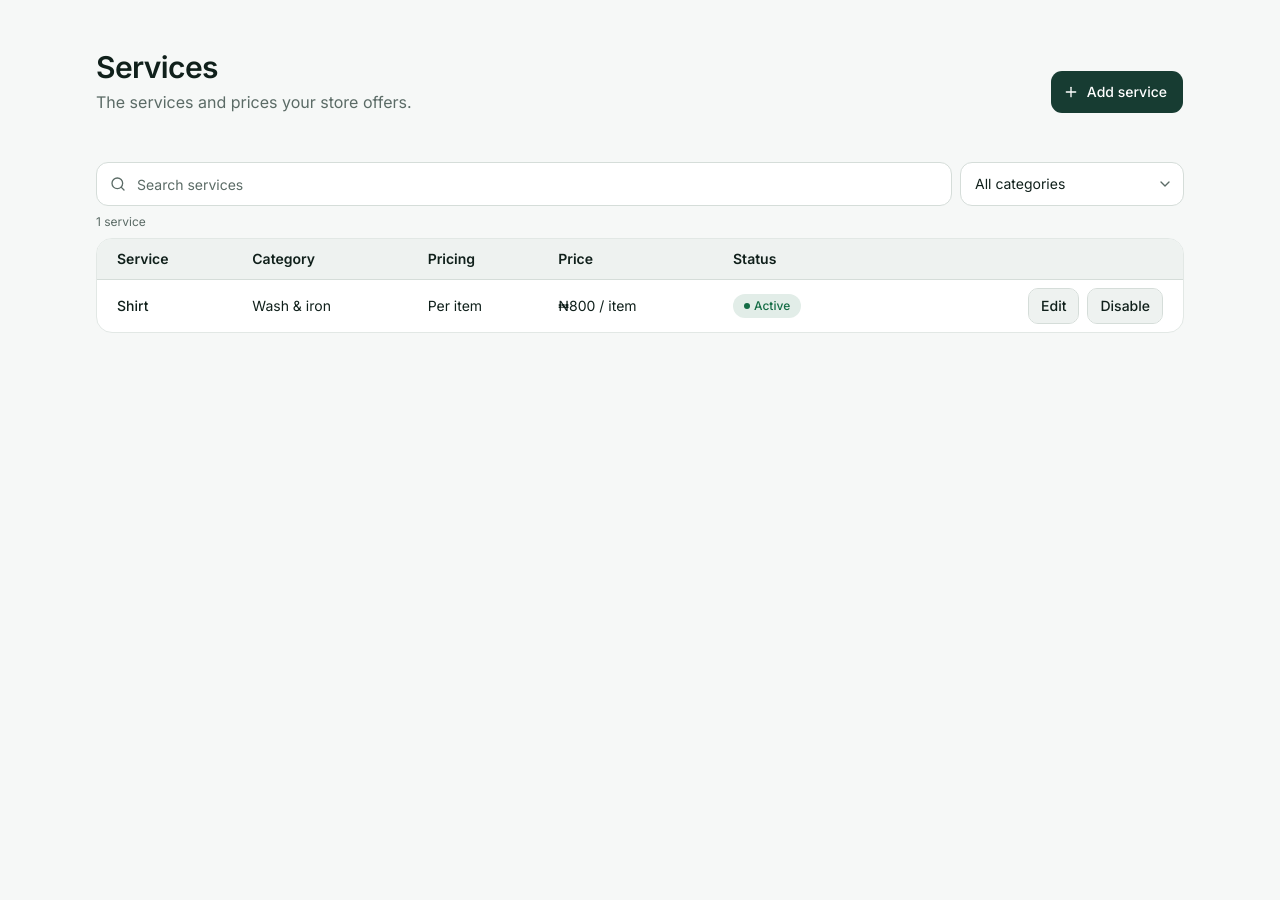
Scenario: ServiceCatalogue › shows a saved edit at once, before the page's data refreshes
Click the button with aria-label "Edit Shirt".
click(1054, 306)  # box [1028,288,1080,324]
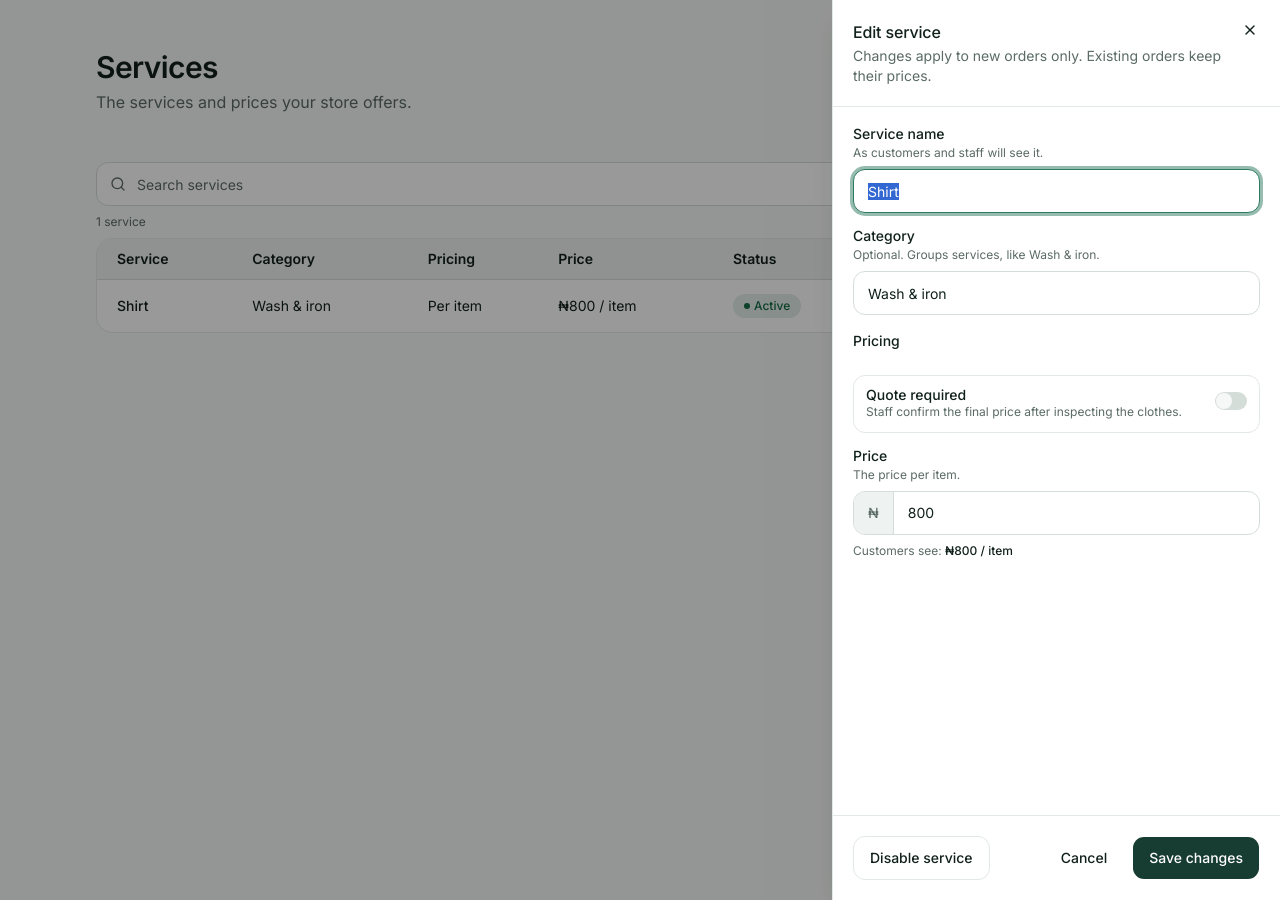
Submit the form named "Service name", box [833,0,1279,899]
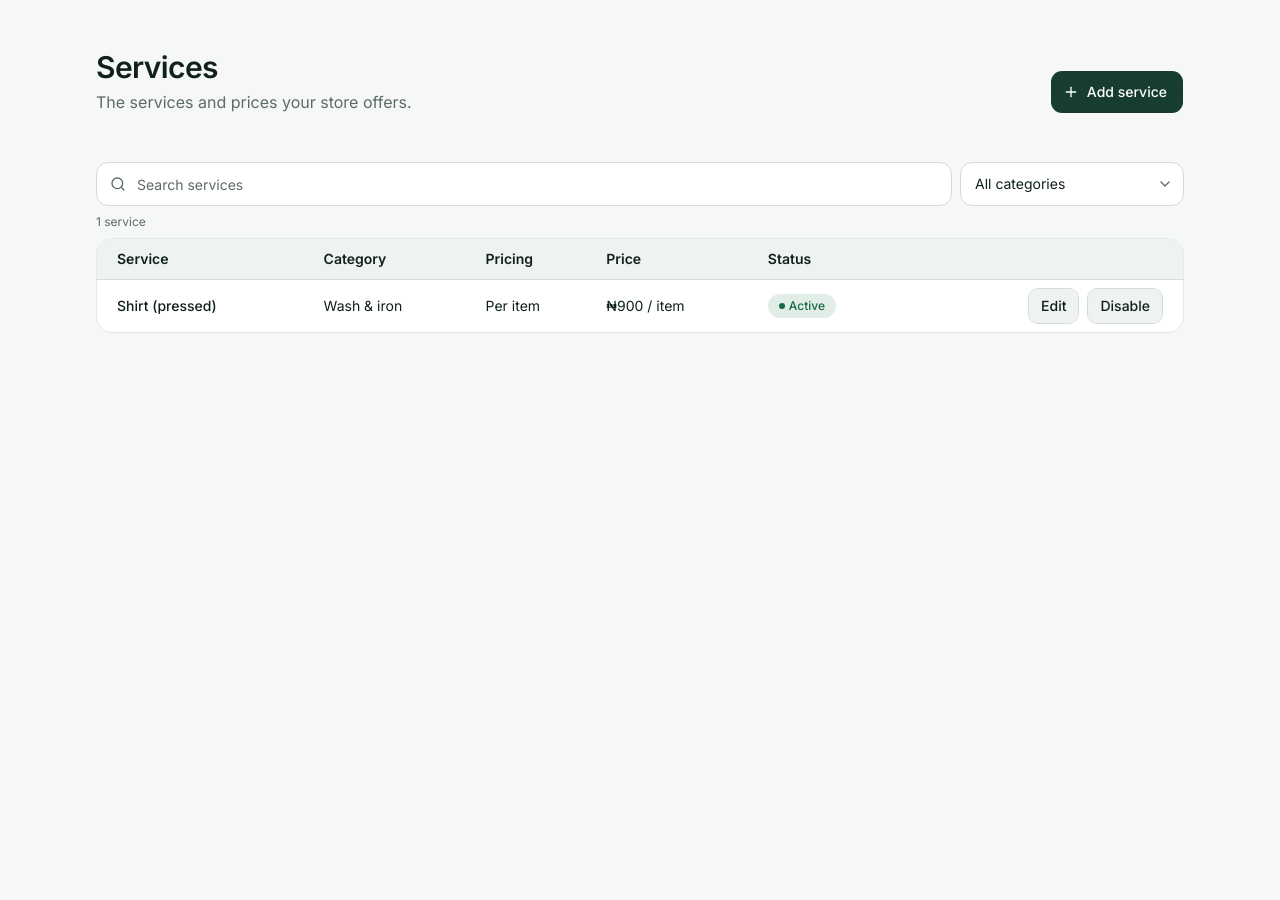
Result: the button "Shirt (pressed)" is shown at [117,296,217,316]
Result: the text "₦900 / item" is shown at [606,296,685,316]
